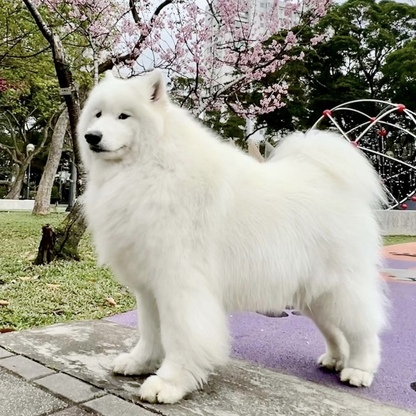samoyed: (65, 66, 402, 406)
